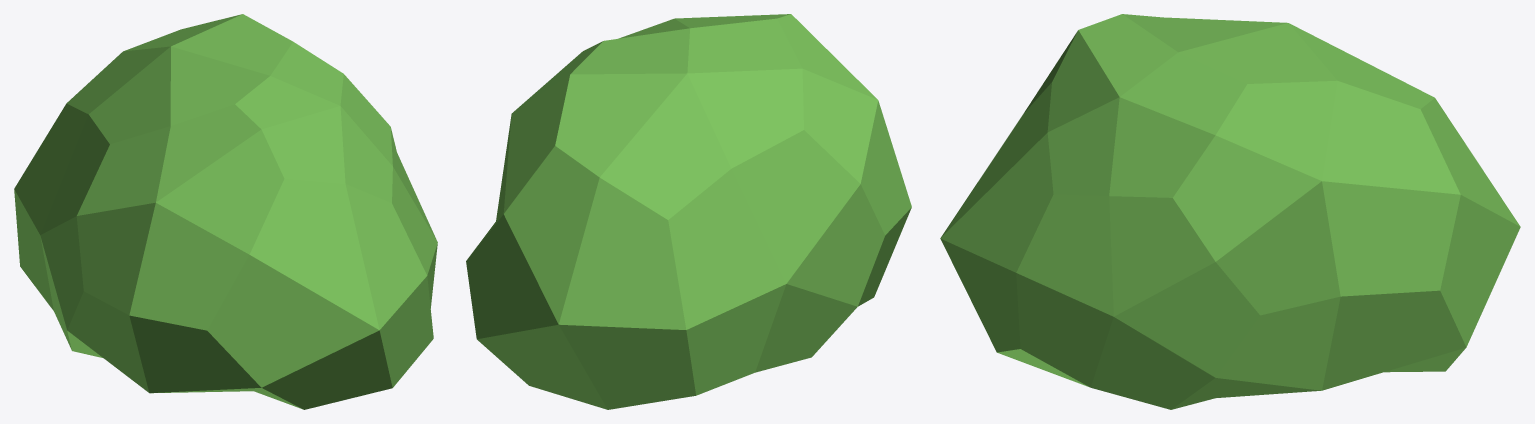
File: O_Enviroment_Bush_1.fbx
3 views of the same model, side by side, from view 1: azimuth 30°, elevation 25°; view 2: azimuth 150°, elevation 25°; view 3: azimuth 270°, elevation 25° (orthographic). The views are drawn at different scales.
Parts seen in each view (by area): view 1: pPlatonic1; view 2: pPlatonic1; view 3: pPlatonic1.
Part boxes in pixels (x1,y1,x2,y2): pPlatonic1: (14,14,437,409); pPlatonic1: (466,14,911,409); pPlatonic1: (940,14,1520,409).
Bounding box in the file's own units: 3.6 × 2.88 × 4.96.
